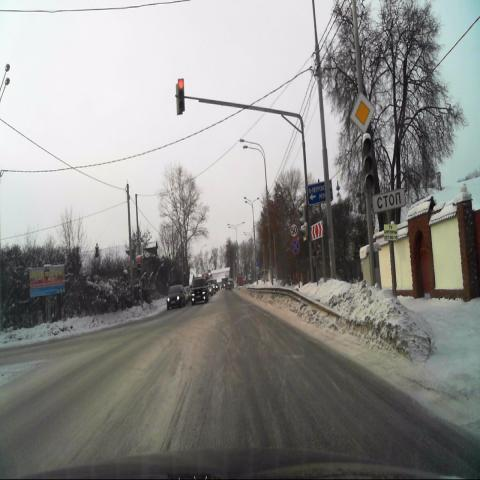6_16: (372, 190, 406, 212)
